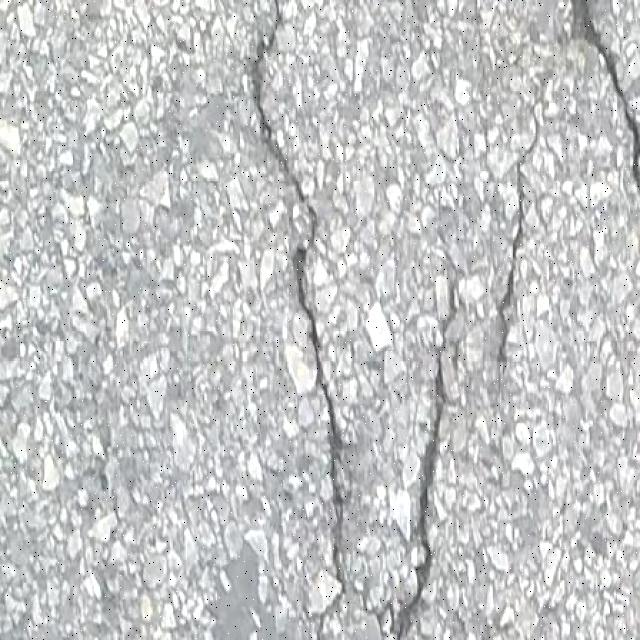Crack: (250, 4, 345, 639), (352, 279, 456, 639), (496, 106, 539, 368), (571, 0, 621, 98), (624, 108, 640, 198)
